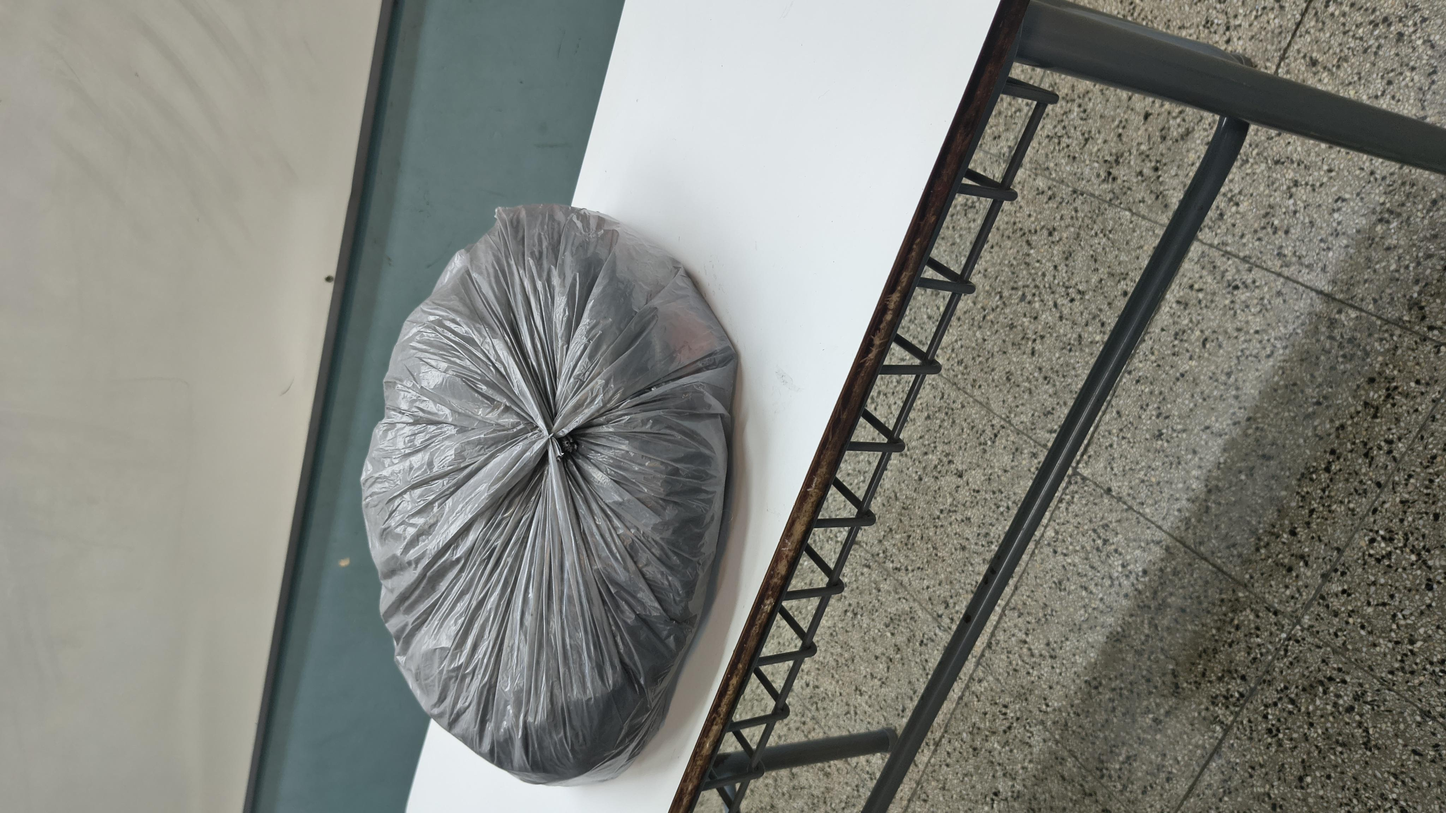Garbage: (25, 177, 1186, 464)
